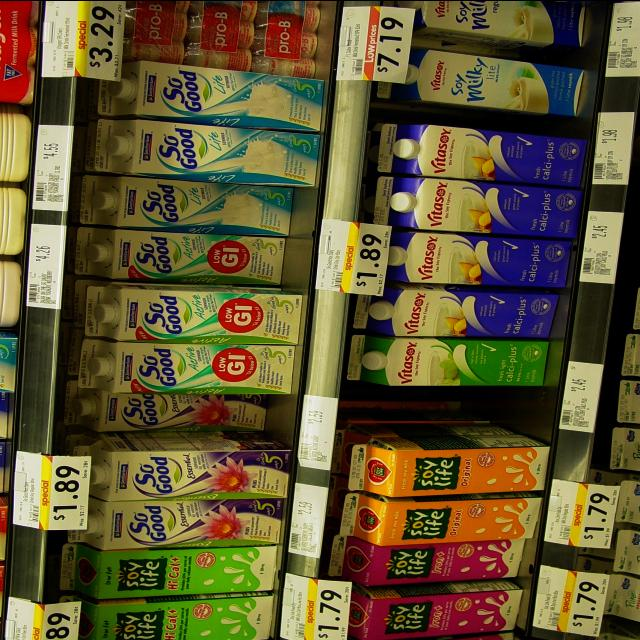empty_space: (388, 394, 540, 422)
